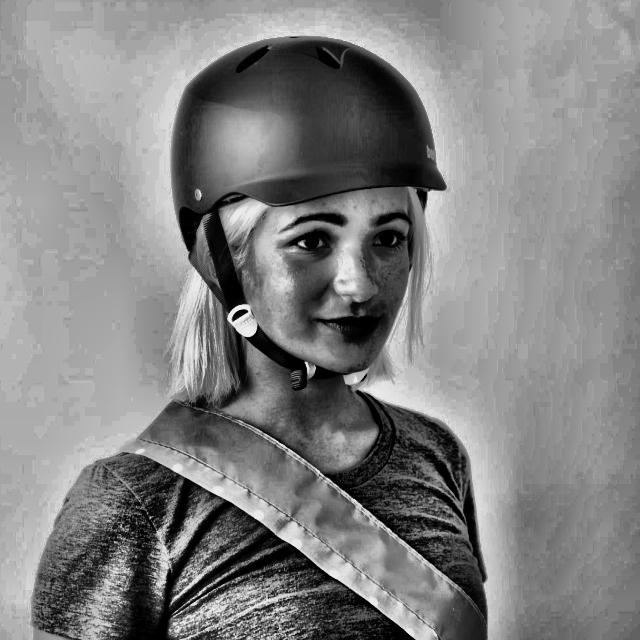Helmet: (169, 31, 450, 412)
